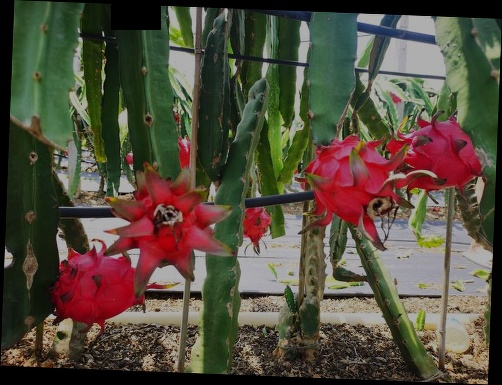pitaya: (109, 170, 231, 273), (53, 249, 150, 323), (309, 134, 392, 218), (385, 116, 481, 187), (242, 205, 272, 245), (169, 133, 200, 169)
